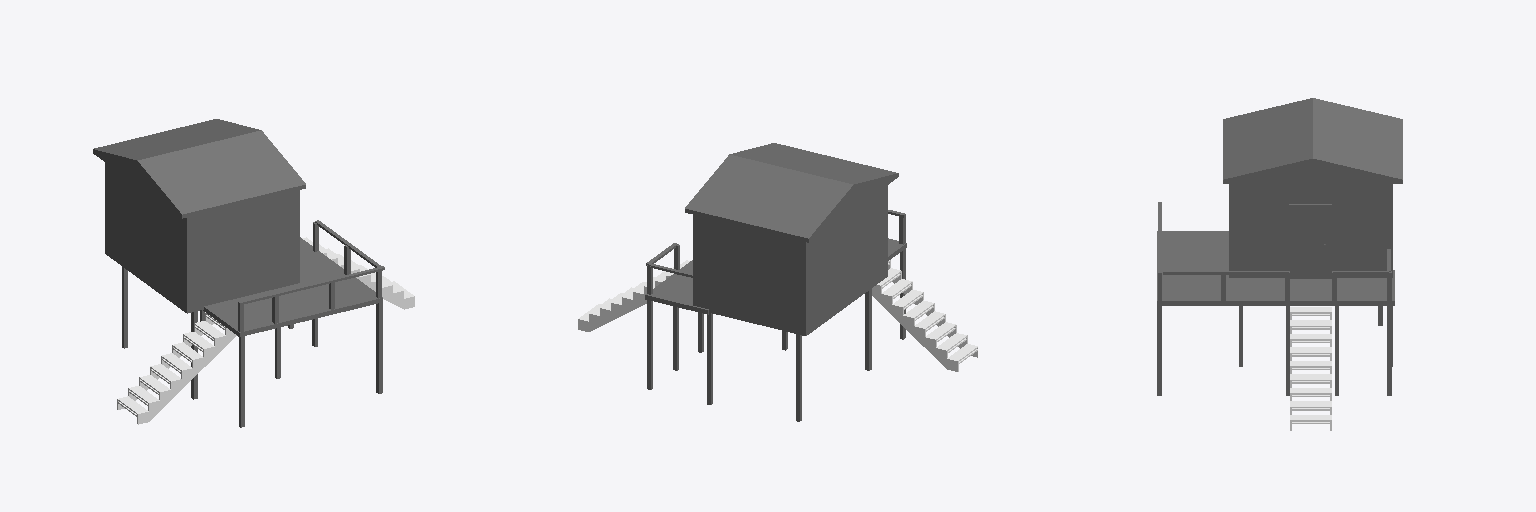
File: Cabin.obj
3 views of the same model, side by side, from view 1: azimuth 30°, elevation 25°; view 2: azimuth 150°, elevation 25°; view 3: azimuth 270°, elevation 25° (orthographic).
Visible parts, largest first — view 1: pCube197; view 2: pCube197; view 3: pCube197.
Part boxes in pixels (x1,y1,x2,y2): pCube197: (93,119,414,427); pCube197: (578,143,977,421); pCube197: (1157,98,1402,430).
Bounding box in the file's own units: 83.66 × 52.74 × 54.14.